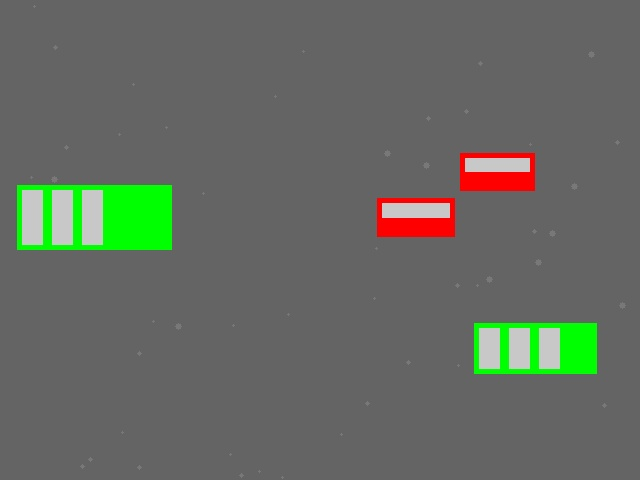bus: (17, 185, 171, 249), (474, 323, 596, 373)
car: (377, 198, 454, 236), (460, 153, 534, 190)
